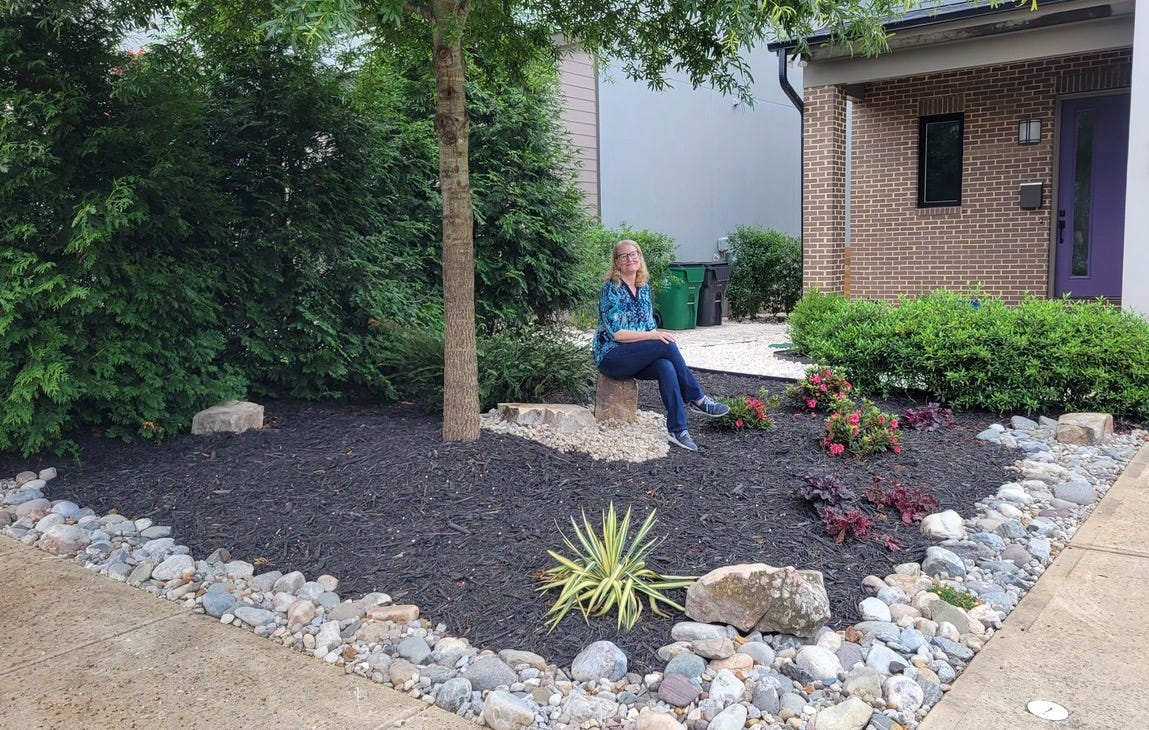dirt: (46, 394, 1017, 669)
rock: (3, 475, 719, 726), (726, 409, 1136, 725), (486, 396, 669, 462), (194, 397, 264, 438)
tree: (438, 20, 481, 443)
